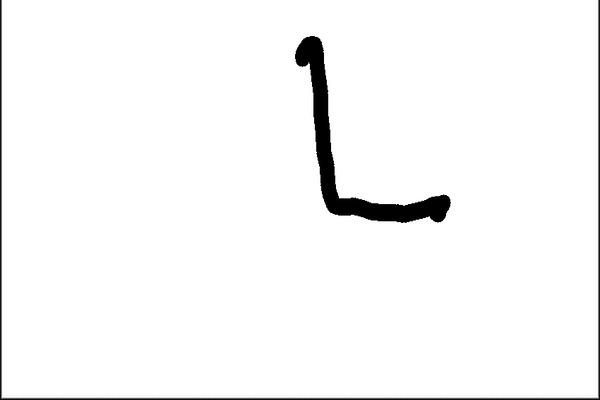L: (284, 30, 455, 230)
